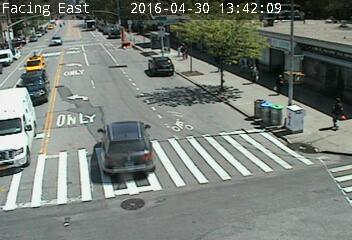neg: (181, 120, 211, 159), (126, 107, 154, 146), (87, 32, 114, 68), (25, 100, 51, 135), (109, 27, 131, 56), (256, 123, 274, 147), (52, 32, 68, 54), (19, 46, 34, 65)
pos: (326, 93, 351, 131), (267, 70, 288, 98), (245, 61, 261, 83), (178, 39, 193, 60)
